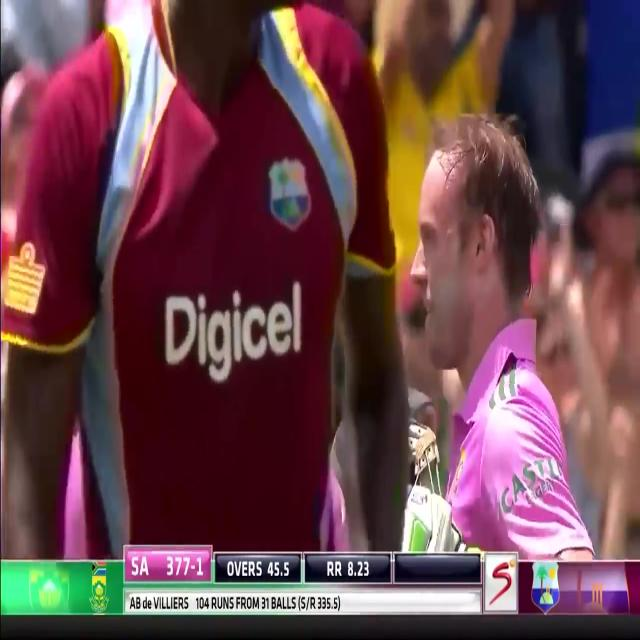Ball: (337, 97, 596, 557)
Fielder: (0, 0, 422, 548)
